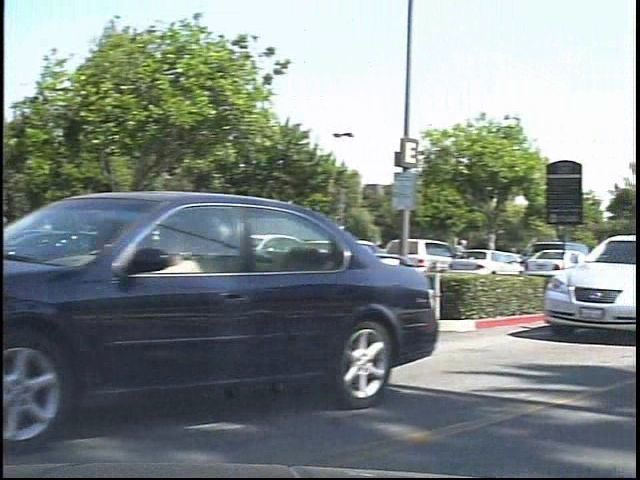person: (461, 232, 488, 286)
